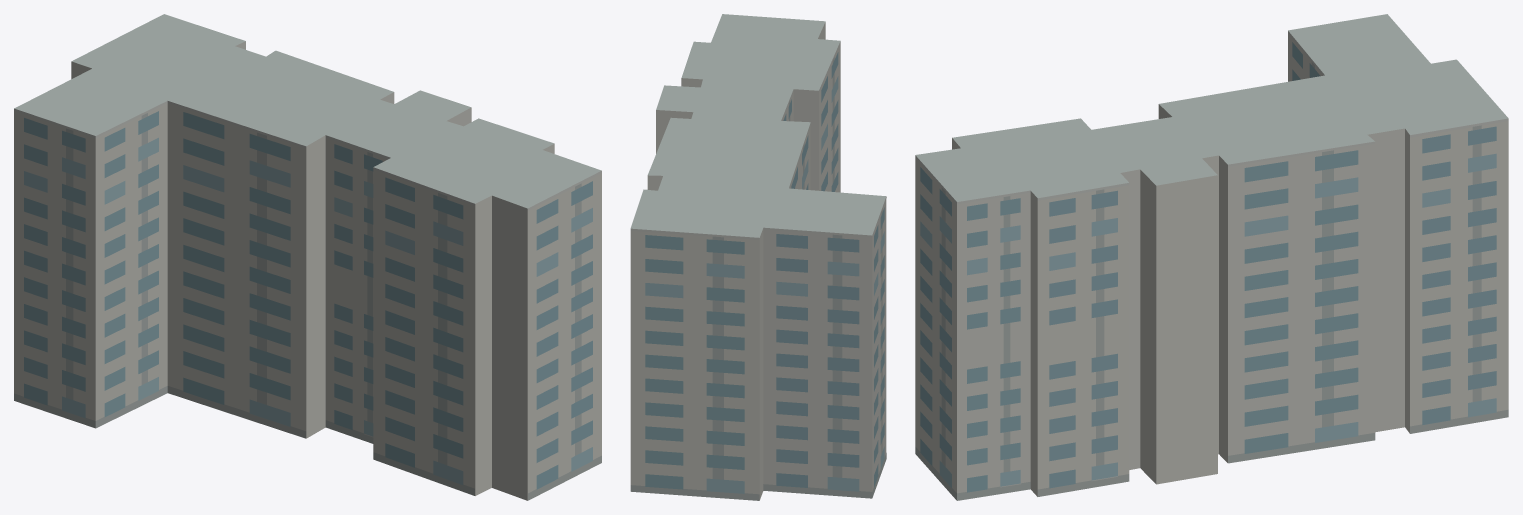
Rendered from residential-b63fe528-485a-4554-a680-abc03b2fcf46.glb.
3 renders of one model, left to right at view 1: azimuth 30°, elevation 25°; view 2: azimuth 150°, elevation 25°; view 3: azimuth 270°, elevation 25°, orthographic. The views are drawn at different scales.
Parts seen in each view (by area): view 1: residential-b63fe528-485a-4554-a680-abc03b2fcf46.tmp; view 2: residential-b63fe528-485a-4554-a680-abc03b2fcf46.tmp; view 3: residential-b63fe528-485a-4554-a680-abc03b2fcf46.tmp.
Part boxes in pixels (x1=…): residential-b63fe528-485a-4554-a680-abc03b2fcf46.tmp: x1=14, y1=14, x2=601, y2=500; residential-b63fe528-485a-4554-a680-abc03b2fcf46.tmp: x1=630, y1=14, x2=886, y2=500; residential-b63fe528-485a-4554-a680-abc03b2fcf46.tmp: x1=915, y1=14, x2=1508, y2=500.
Size of the model in its own units: 41.86 by 31 by 55.8.
